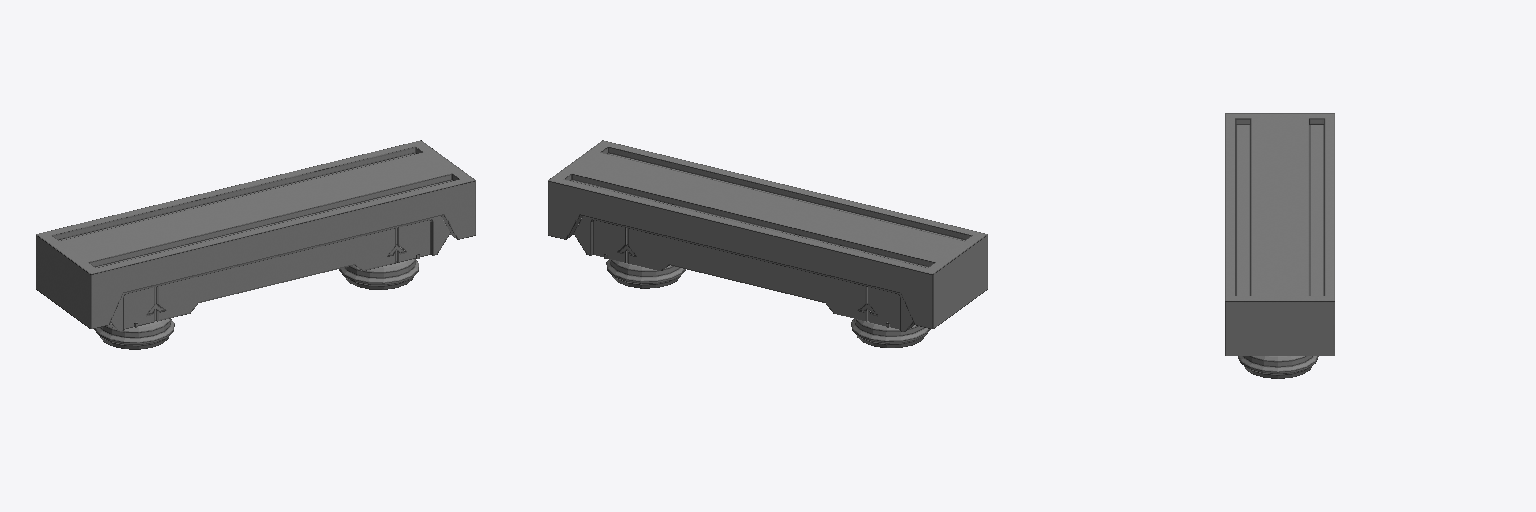
3 renders of one model, left to right at view 1: azimuth 30°, elevation 25°; view 2: azimuth 150°, elevation 25°; view 3: azimuth 270°, elevation 25°, orthographic.
Visible parts, largest first — view 1: MovingPlatform.obj; view 2: MovingPlatform.obj; view 3: MovingPlatform.obj.
Boxes of the visible parts, x1,y1,x2,y2 form: MovingPlatform.obj: [36, 140, 475, 349]; MovingPlatform.obj: [548, 140, 987, 347]; MovingPlatform.obj: [1225, 113, 1334, 378].
Size of the model in its own units: 6.05 by 1.46 by 1.5.
1 materials, 1 textured.